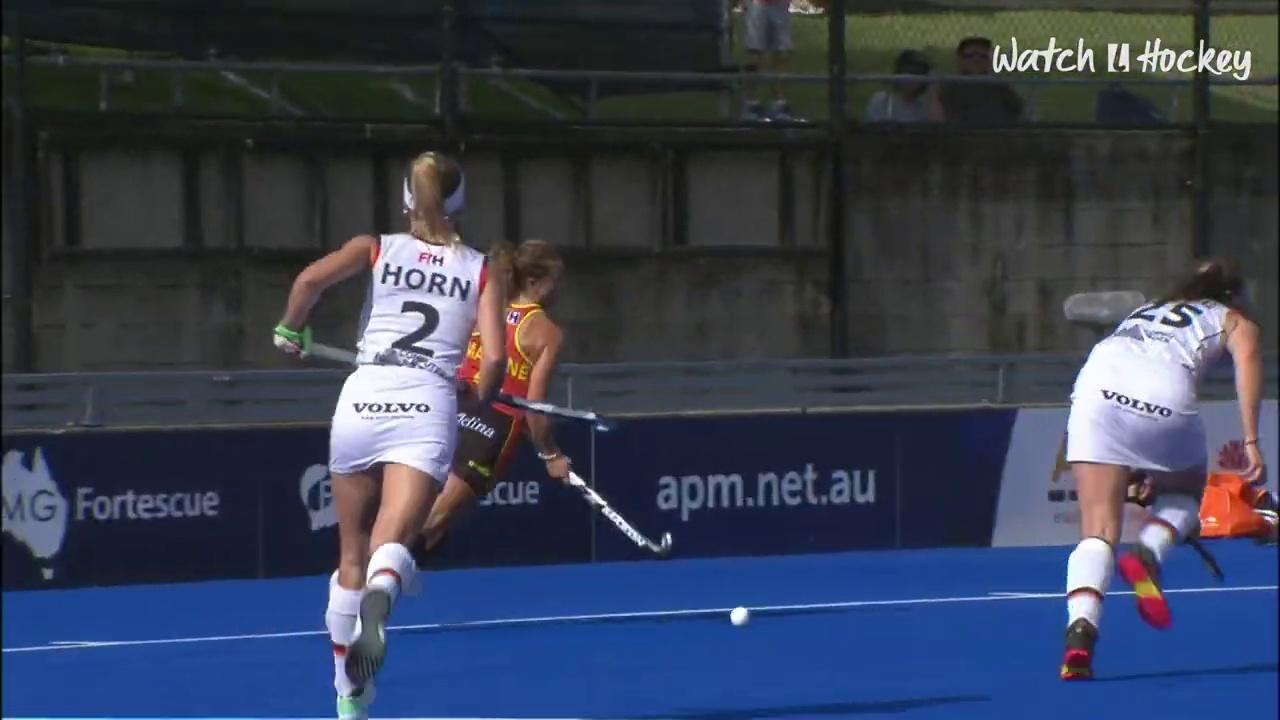ball: (722, 597, 762, 642)
